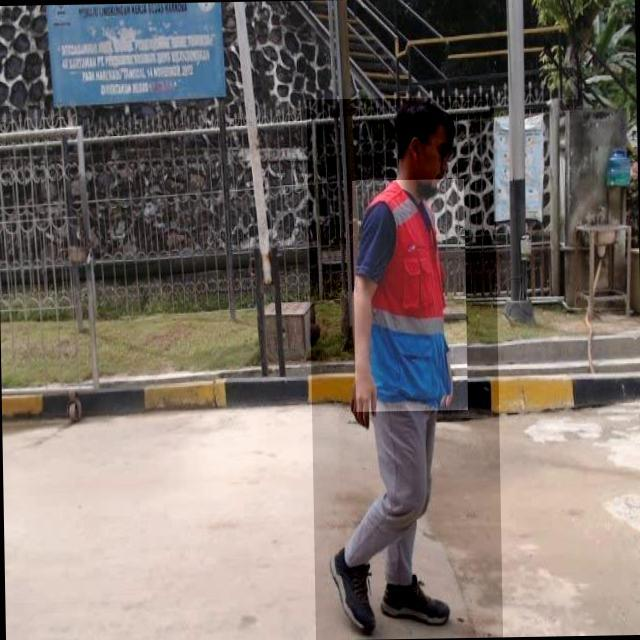Human: (307, 96, 503, 640)
Safety Boot: (326, 543, 383, 640), (380, 574, 455, 631)
Safety Vest: (352, 179, 468, 413)
